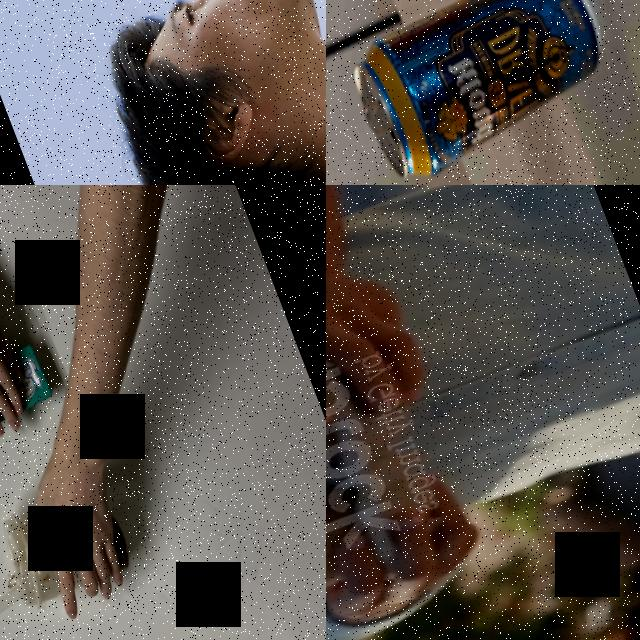can: (333, 0, 626, 185)
cup: (0, 477, 137, 616), (326, 485, 367, 640)
